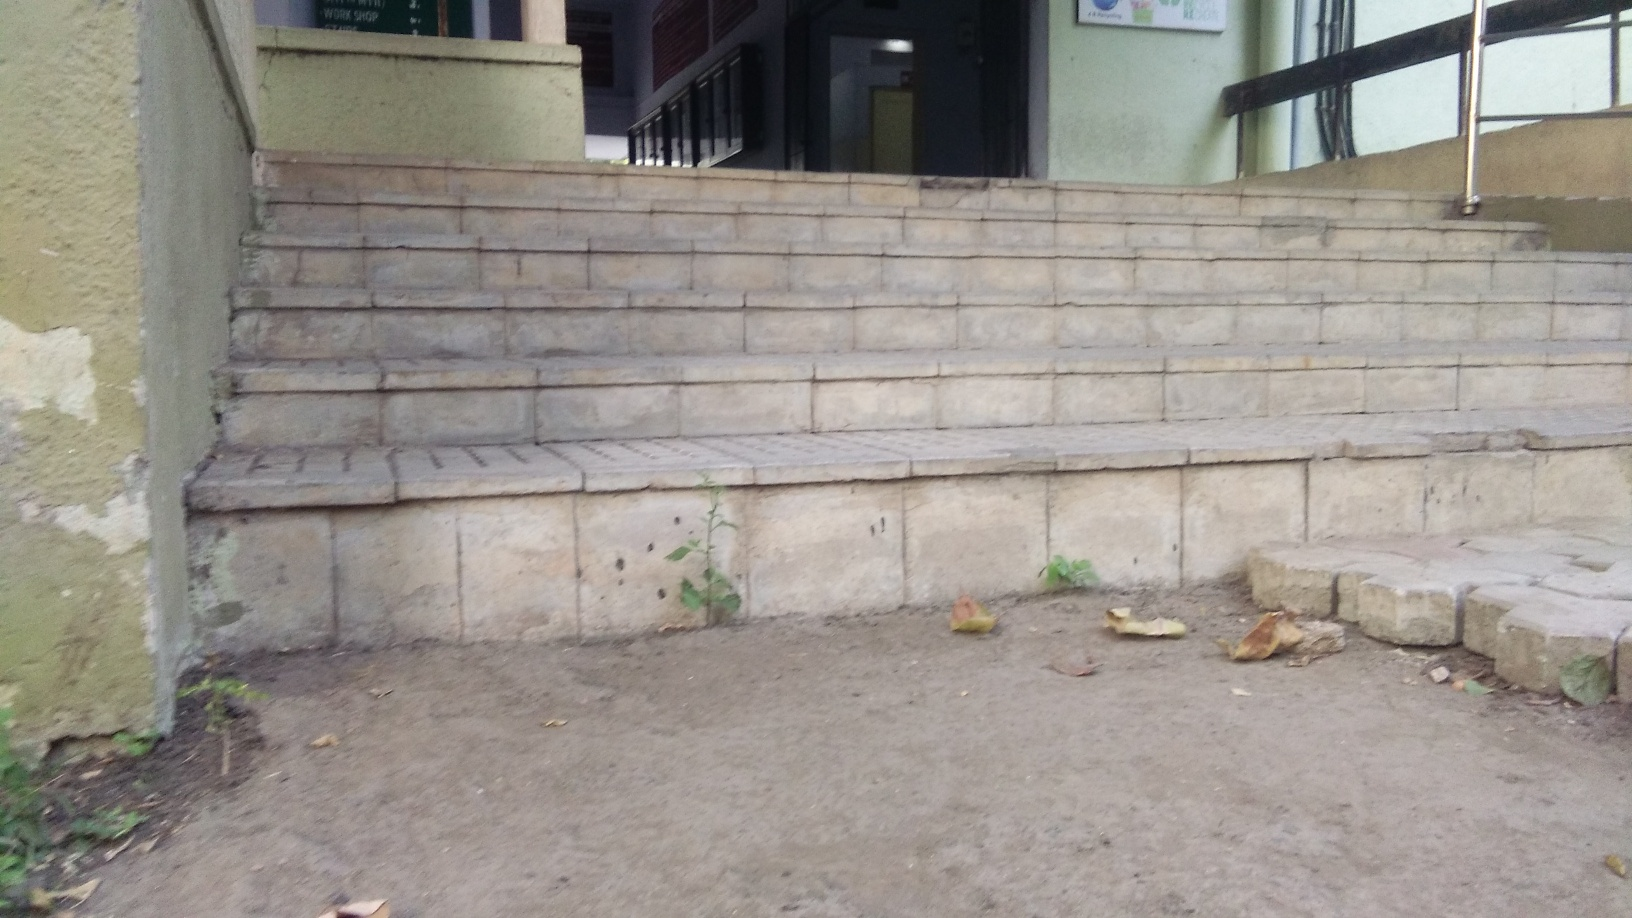stairs_up: (196, 135, 1632, 648)
